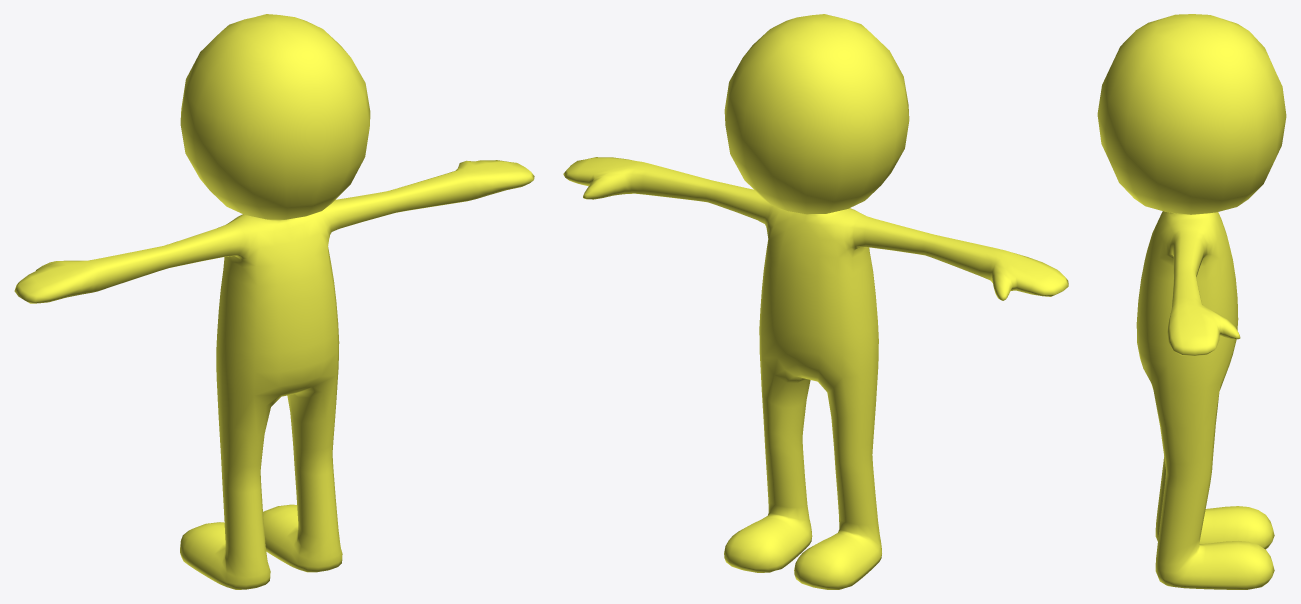
Rendered from stickman (1).fbx.
The picture shows the model from 3 angles, left to right: view 1: azimuth 30°, elevation 25°; view 2: azimuth 150°, elevation 25°; view 3: azimuth 270°, elevation 25°; orthographic projection. The views are drawn at different scales.
Visible parts, largest first — view 1: stickman__1_; view 2: stickman__1_; view 3: stickman__1_.
Boxes of the visible parts, <box> form: stickman__1_: <box>14,14,534,589</box>; stickman__1_: <box>563,14,1068,589</box>; stickman__1_: <box>1097,14,1286,589</box>.
Size of the model in its own units: 180 by 183 by 58.17.
